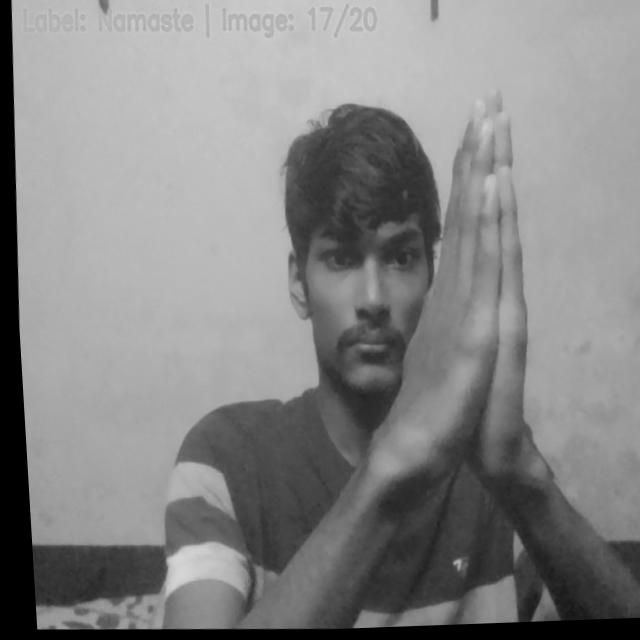Namaste: (416, 86, 553, 482)
